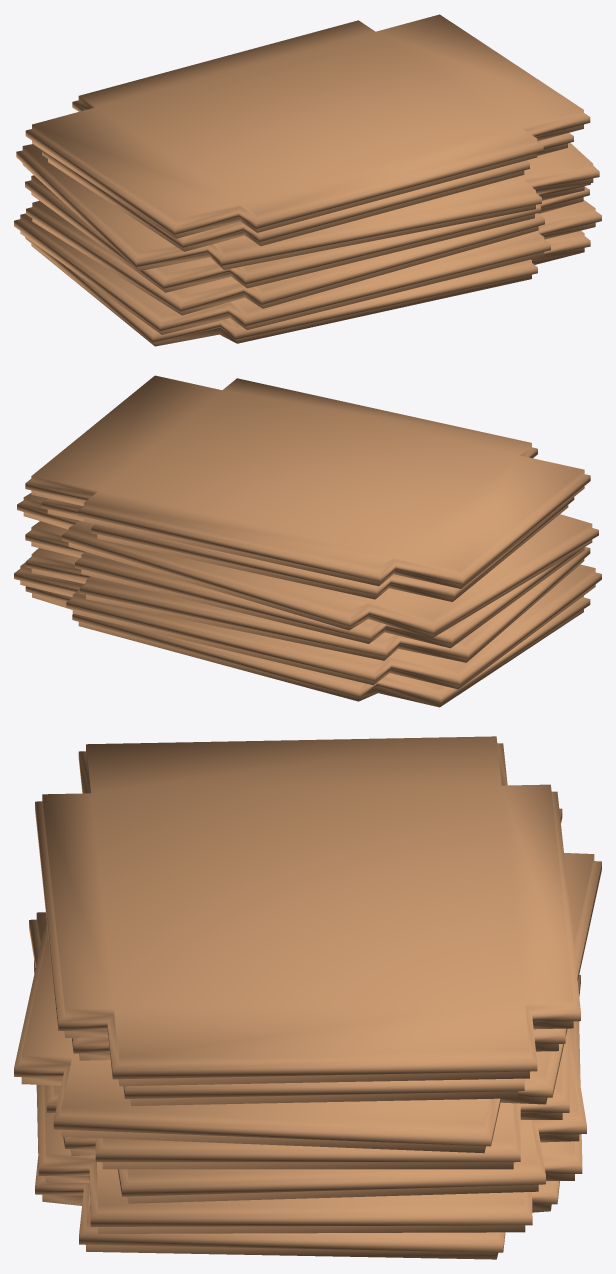
Rendered from CardboardFlat2.fbx.
3 views of the same model, one above another, from view 1: azimuth 30°, elevation 25°; view 2: azimuth 150°, elevation 25°; view 3: azimuth 270°, elevation 25° (orthographic). The views are drawn at different scales.
Parts seen in each view (by area): view 1: CardboardStack2; view 2: CardboardStack2; view 3: CardboardStack2.
Boxes of the visible parts, bbox=[...] form: CardboardStack2: bbox=[14, 14, 601, 346]; CardboardStack2: bbox=[14, 375, 601, 707]; CardboardStack2: bbox=[14, 736, 601, 1259].
Bounding box in the file's own units: 179 × 48.66 × 128.
Materials: 1 (1 with a texture image).
